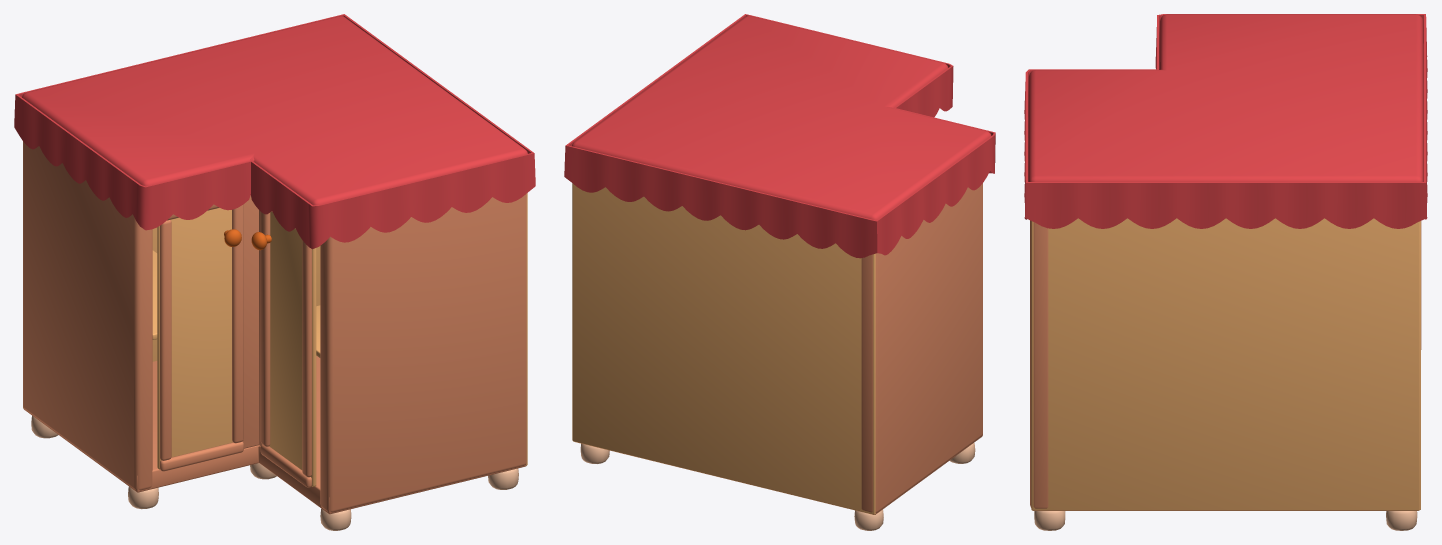
File: armario_cozinha_canto_campestre.glb
3 renders of one model, left to right at view 1: azimuth 30°, elevation 25°; view 2: azimuth 150°, elevation 25°; view 3: azimuth 270°, elevation 25°, orthographic. The views are drawn at different scales.
Parts seen in each view (by area): view 1: armario_cozinha_canto_campestre, porta_1, porta_2; view 2: armario_cozinha_canto_campestre; view 3: armario_cozinha_canto_campestre.
Part boxes in pixels (x1=…): armario_cozinha_canto_campestre: x1=14, y1=14, x2=535, y2=530; porta_1: x1=157, y1=204, x2=243, y2=471; porta_2: x1=251, y1=211, x2=316, y2=487; armario_cozinha_canto_campestre: x1=564, y1=14, x2=995, y2=530; armario_cozinha_canto_campestre: x1=1024, y1=14, x2=1427, y2=530.
Size of the model in its own units: 0.918 by 0.9 by 0.919.
1 material, 1 textured.
